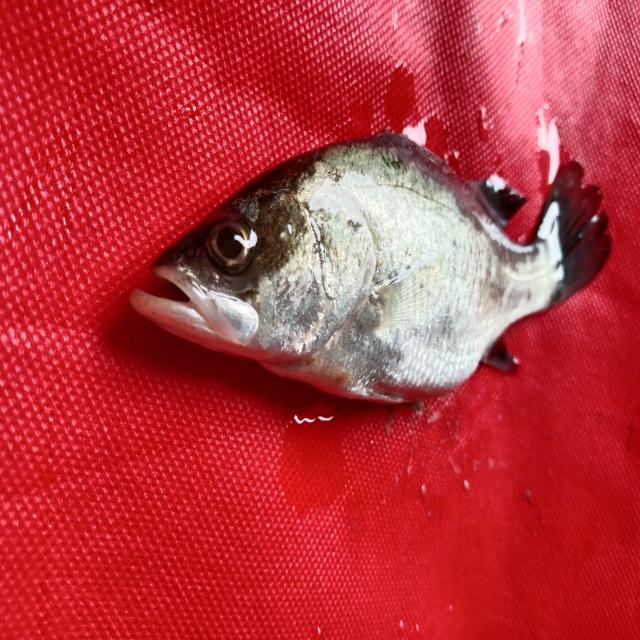ikan: (103, 100, 617, 424)
